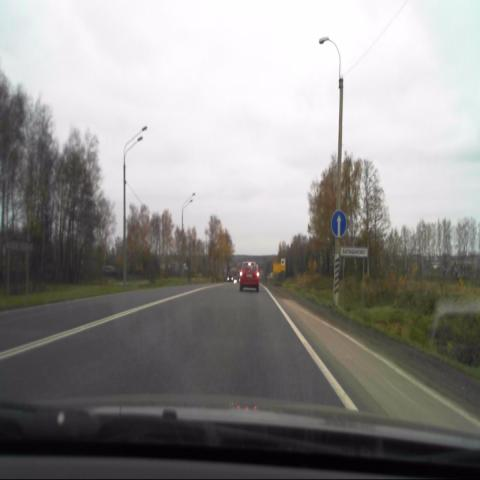4_1_1: (331, 209, 347, 238)
